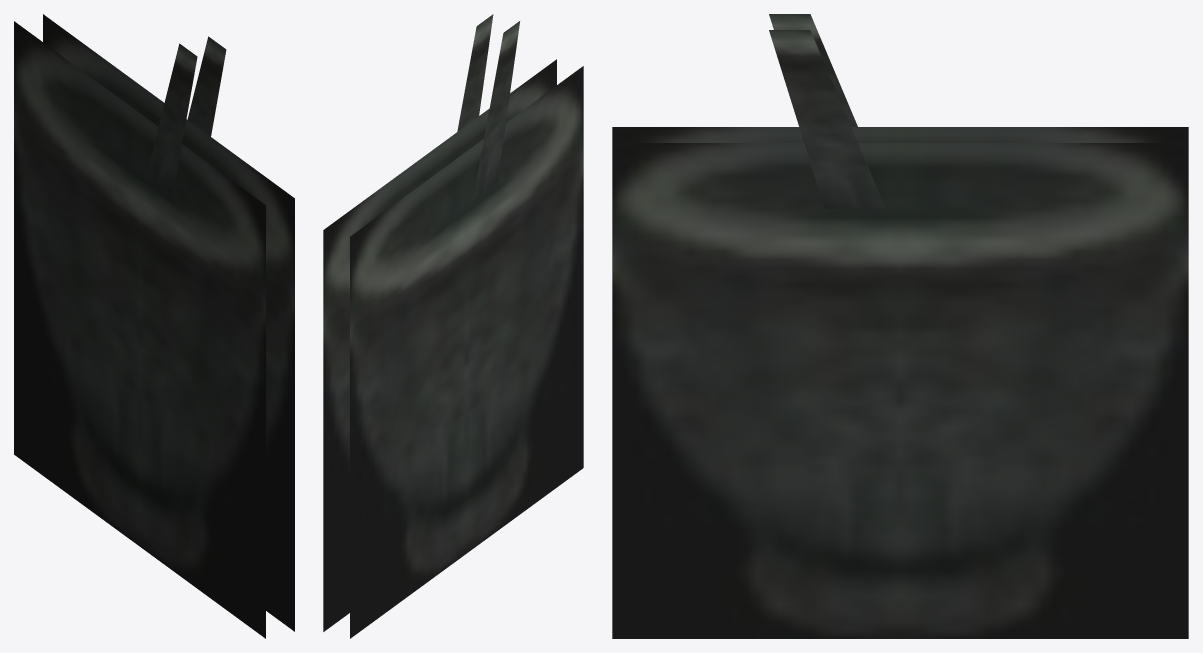
Rendered from sign1_spanish_a_icon_chemist.fbx.
3 views of the same model, side by side, from view 1: azimuth 30°, elevation 25°; view 2: azimuth 150°, elevation 25°; view 3: azimuth 270°, elevation 25° (orthographic). The views are drawn at different scales.
Visible parts, largest first — view 1: mortor, pestle; view 2: mortor, pestle; view 3: mortor, pestle.
Boxes of the visible parts, x1=… form: mortor: x1=14, y1=14, x2=294, y2=638; pestle: x1=146, y1=36, x2=226, y2=194; mortor: x1=323, y1=59, x2=583, y2=638; pestle: x1=457, y1=14, x2=519, y2=199; mortor: x1=612, y1=127, x2=1188, y2=638; pestle: x1=769, y1=14, x2=885, y2=208.
Size of the model in its own units: 16.67 by 293 by 251.
Materials: 1 (1 with a texture image).
